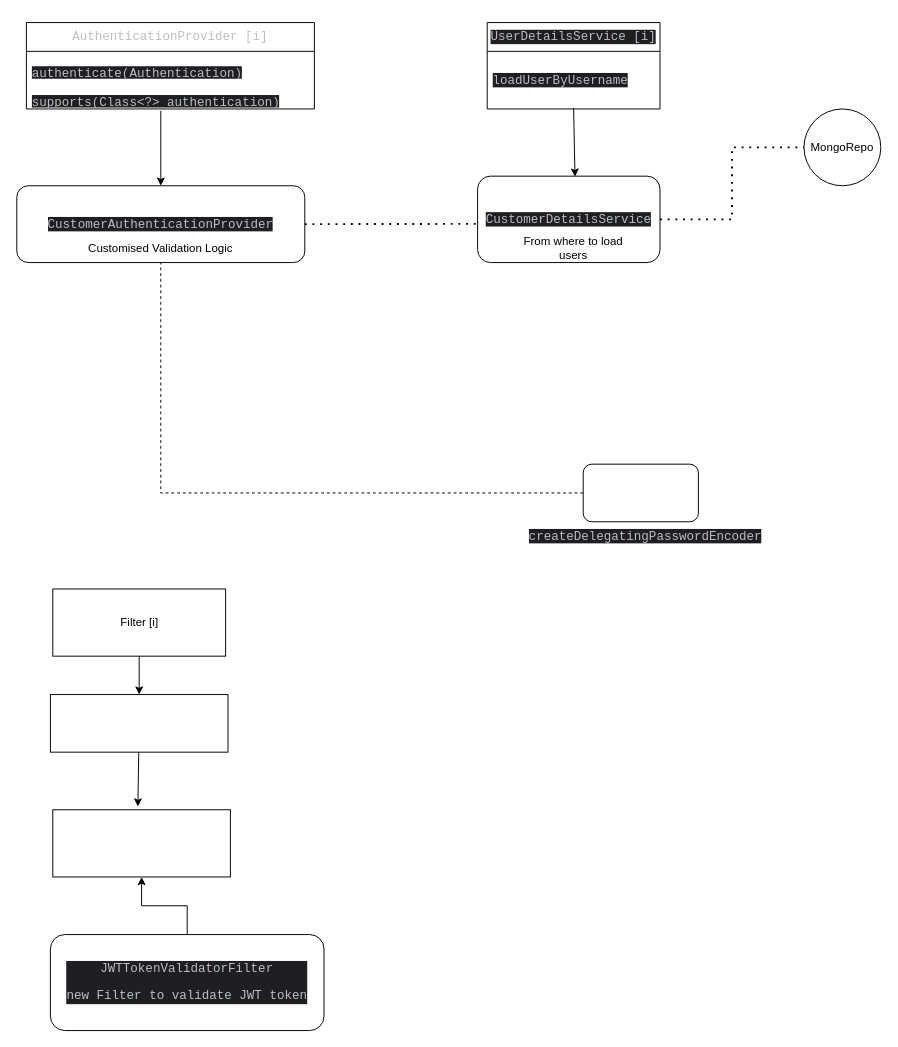
The diagram is 898 pixels wide and 1047 high, and some of its shapes have lost their labels. Here are the shapes that lost their labels. From the top down, the centre of each, then its label:
At point 640,492: "PasswordEncoder".
At point 138,723: "Generic Filter".
At point 141,843: "OncePerRequestFilter".
